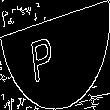P_N: (41, 27, 69, 83)
